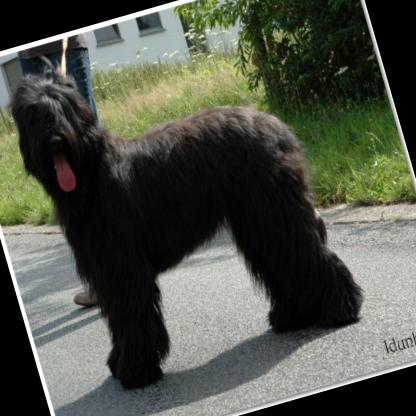briard: (0, 1, 369, 399)
